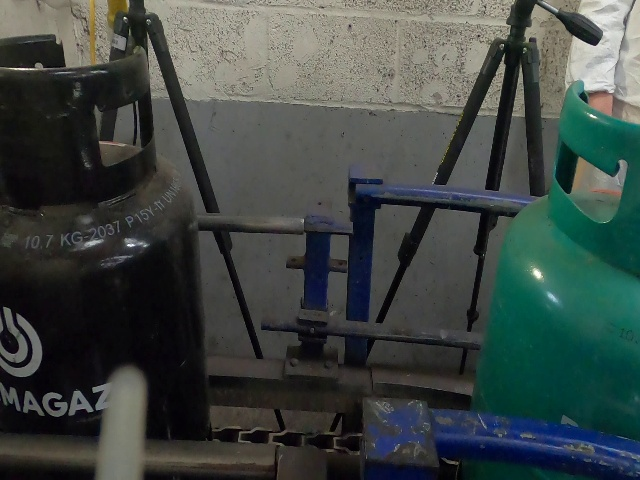gas_bottle: (2, 0, 640, 477)
